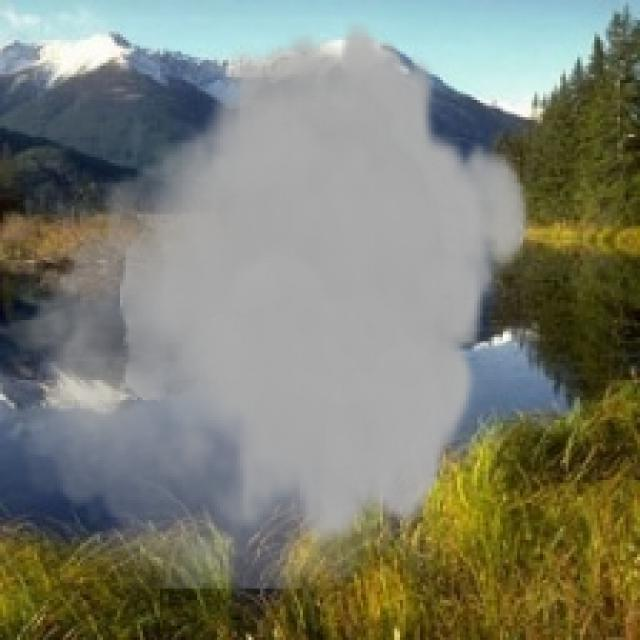Smoke: (6, 20, 534, 589)
